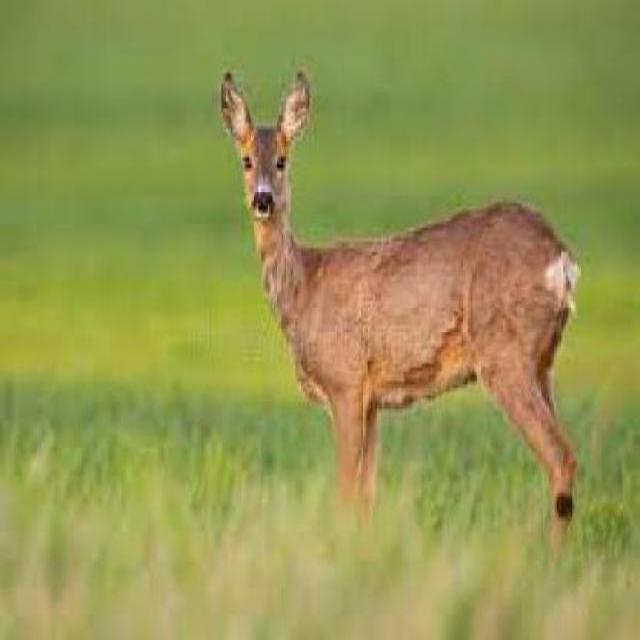deer: (205, 54, 593, 543)
